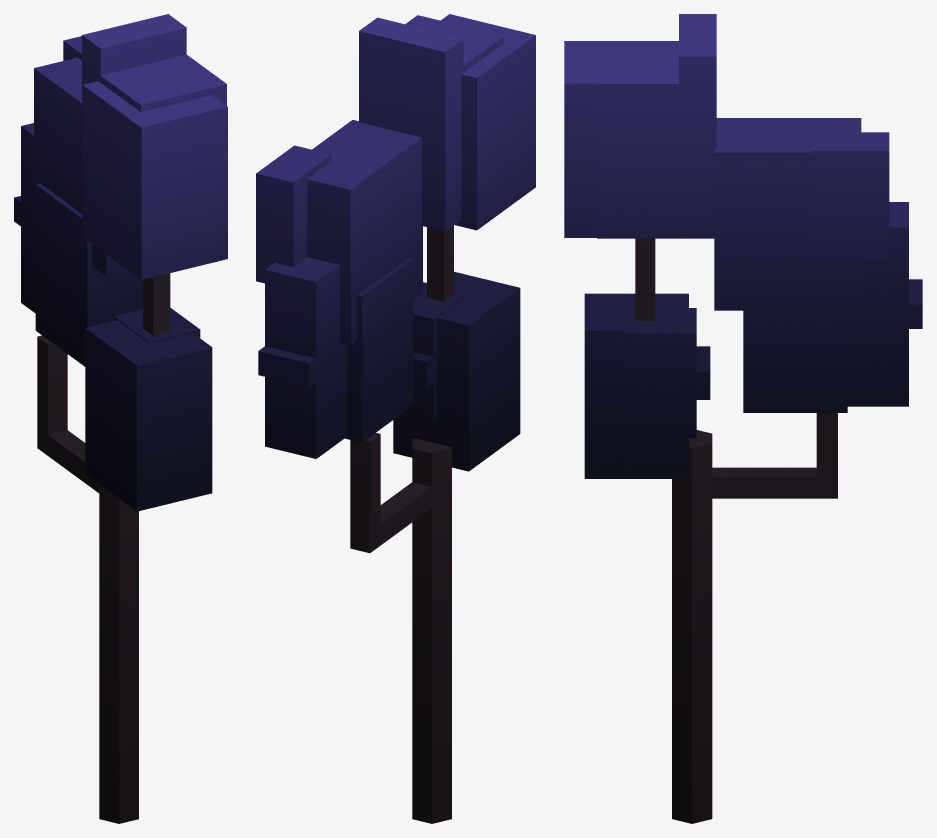
File: Arvore Azul 1.obj
3 renders of one model, left to right at view 1: azimuth 30°, elevation 25°; view 2: azimuth 150°, elevation 25°; view 3: azimuth 270°, elevation 25°, orthographic.
Visible parts, largest first — view 1: Arvore Azul 1; view 2: Arvore Azul 1; view 3: Arvore Azul 1.
Boxes of the visible parts, x1,y1,x2,y2 form: Arvore Azul 1: (14, 14, 227, 823); Arvore Azul 1: (256, 14, 535, 823); Arvore Azul 1: (564, 14, 922, 823).
Bounding box in the file's own units: 0.5756 × 3.58 × 1.48.
